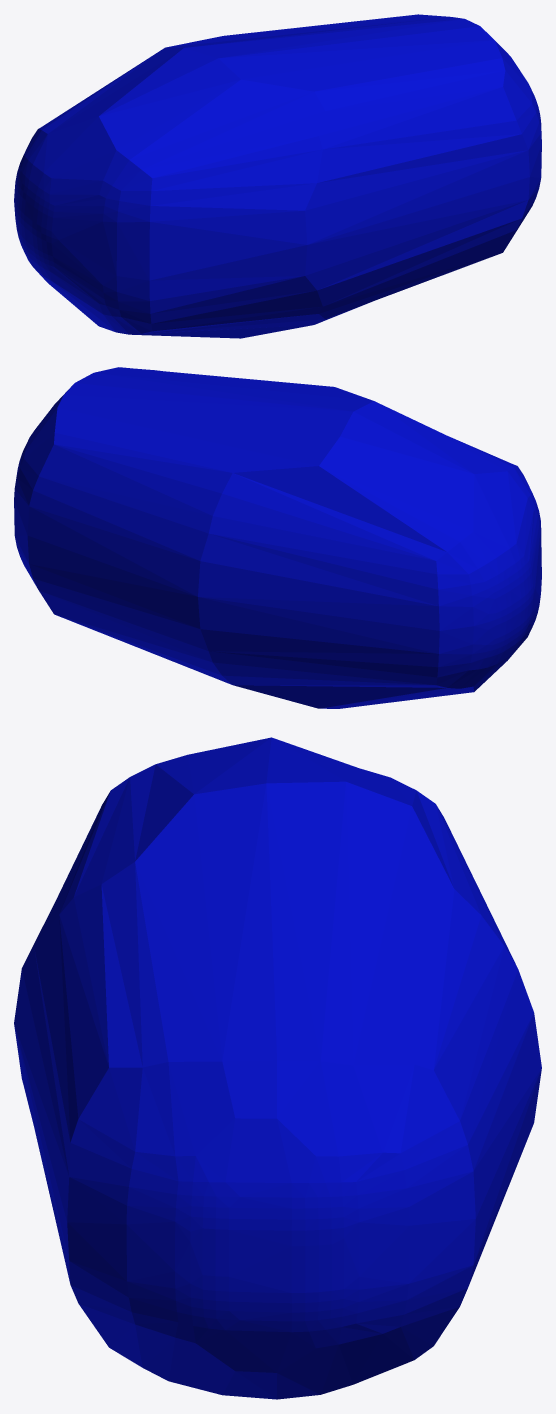
The model's file is COL_hollie_real.017.dae.
3 views of the same model, one above another, from view 1: azimuth 30°, elevation 25°; view 2: azimuth 150°, elevation 25°; view 3: azimuth 270°, elevation 25° (orthographic). The views are drawn at different scales.
Parts seen in each view (by area): view 1: COL_COL_COL_VIS_VIS_VIS_VIS_VIS_VIS_VIS_VIS_VIS_hollie_real_; view 2: COL_COL_COL_VIS_VIS_VIS_VIS_VIS_VIS_VIS_VIS_VIS_hollie_real_; view 3: COL_COL_COL_VIS_VIS_VIS_VIS_VIS_VIS_VIS_VIS_VIS_hollie_real_.
Boxes of the visible parts, x1,y1,x2,y2 form: COL_COL_COL_VIS_VIS_VIS_VIS_VIS_VIS_VIS_VIS_VIS_hollie_real_: (14, 14, 541, 338); COL_COL_COL_VIS_VIS_VIS_VIS_VIS_VIS_VIS_VIS_VIS_hollie_real_: (14, 367, 541, 708); COL_COL_COL_VIS_VIS_VIS_VIS_VIS_VIS_VIS_VIS_VIS_hollie_real_: (14, 737, 541, 1399).
Size of the model in its own units: 0.1072 by 0.0608 by 0.058.
